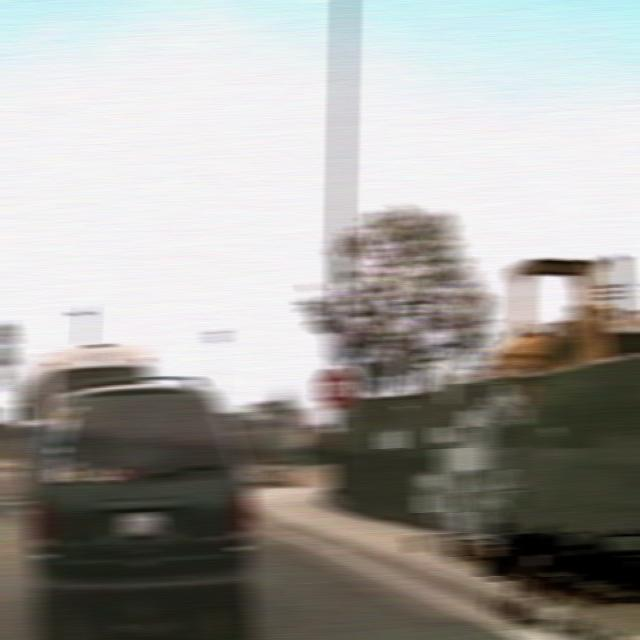stop: (315, 365, 356, 411)
